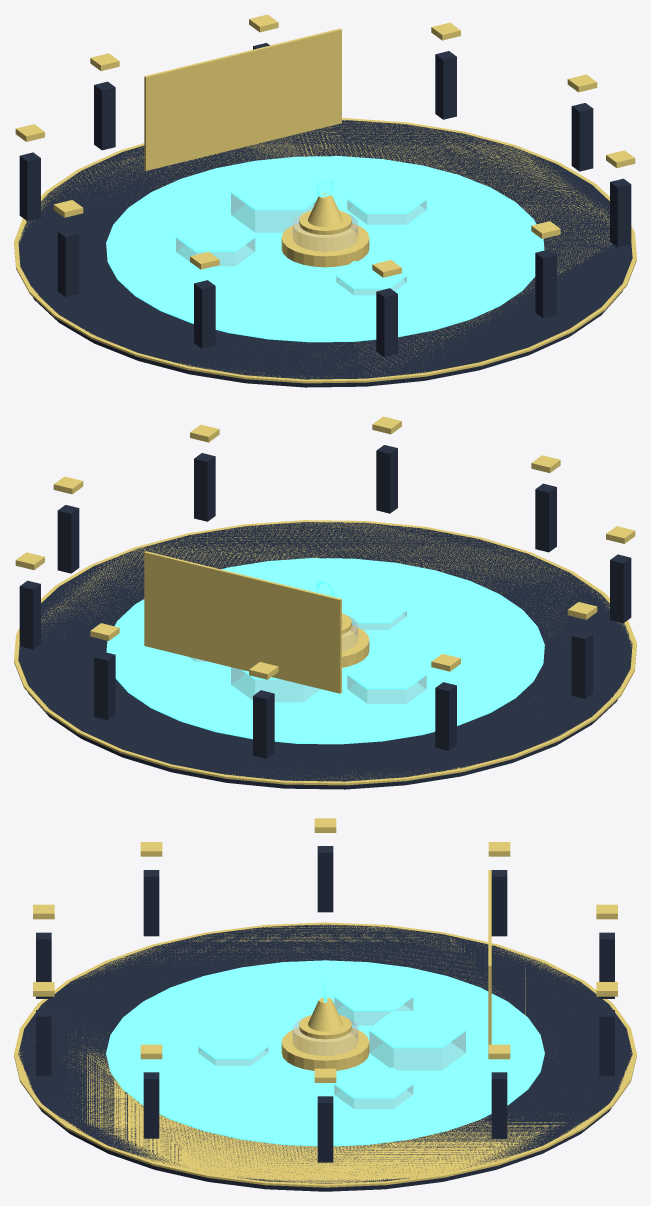
3 renders of one model, top to bottom at view 1: azimuth 30°, elevation 25°; view 2: azimuth 150°, elevation 25°; view 3: azimuth 270°, elevation 25°, orthographic.
Visible parts, largest first — view 1: Arena_Floor, Arena_Inner_NeonRing, Leaderboard_Gold_Frame, Arena_Floor_GoldTrim, Pedestal_Base, Podium_Rank1_NeonRing, Podium_Rank3_NeonRing, Podium_Rank2_NeonRing, Pillar_1, Pillar_6, Podium_Rank1, Pillar_9 (+12 smaller); view 2: Arena_Floor, Arena_Inner_NeonRing, Leaderboard_Gold_Frame, Arena_Floor_GoldTrim, Podium_Rank2_NeonRing, Podium_Rank4_NeonRing, Pillar_1, Pillar_6, Podium_Rank1, Pillar_3, Pillar_7, Pillar_2 (+7 smaller); view 3: Arena_Floor, Arena_Inner_NeonRing, Arena_Floor_GoldTrim, Pedestal_Base, Podium_Rank1_NeonRing, Podium_Rank1, Podium_Rank2_NeonRing, Podium_Rank3_NeonRing, Podium_Rank4_NeonRing, Pedestal_GlassRiser, Pillar_1, Pillar_2 (+13 smaller).
Boxes of the visible parts, x1,y1,x2,y2 form: Arena_Floor: (18,120,632,387); Arena_Inner_NeonRing: (106,156,544,342); Leaderboard_Gold_Frame: (144,28,341,170); Arena_Floor_GoldTrim: (14,118,636,383); Pedestal_Base: (281,223,369,267); Podium_Rank1_NeonRing: (230,172,328,210); Podium_Rank3_NeonRing: (346,183,427,213); Podium_Rank2_NeonRing: (175,221,256,251); Pillar_1: (571,103,593,171); Pillar_6: (57,228,79,296); Podium_Rank1: (231,193,315,232); Pillar_9: (535,249,556,318); Arena_Floor: (18,522,632,789); Arena_Inner_NeonRing: (106,558,544,744); Leaderboard_Gold_Frame: (144,551,341,693); Arena_Floor_GoldTrim: (14,520,636,785); Podium_Rank2_NeonRing: (346,658,427,689); Podium_Rank4_NeonRing: (342,595,407,623); Pillar_1: (57,505,79,573); Pillar_6: (571,630,593,698); Podium_Rank1: (231,667,320,701); Pillar_3: (94,651,115,720); Pillar_7: (610,554,631,623); Pillar_2: (19,580,40,649); Arena_Floor: (18,924,632,1191); Arena_Inner_NeonRing: (106,960,544,1146); Arena_Floor_GoldTrim: (14,922,636,1187); Pedestal_Base: (281,1027,369,1070); Podium_Rank1_NeonRing: (368,1011,466,1048); Podium_Rank1: (369,1031,465,1070); Podium_Rank2_NeonRing: (333,980,414,1011); Podium_Rank3_NeonRing: (333,1067,414,1098); Podium_Rank4_NeonRing: (197,1031,269,1059); Pedestal_GlassRiser: (292,1018,358,1055); Pillar_1: (317,1096,333,1162); Pillar_2: (491,1072,507,1138).
Size of the model in its own units: 28.4 by 7.25 by 28.4.
